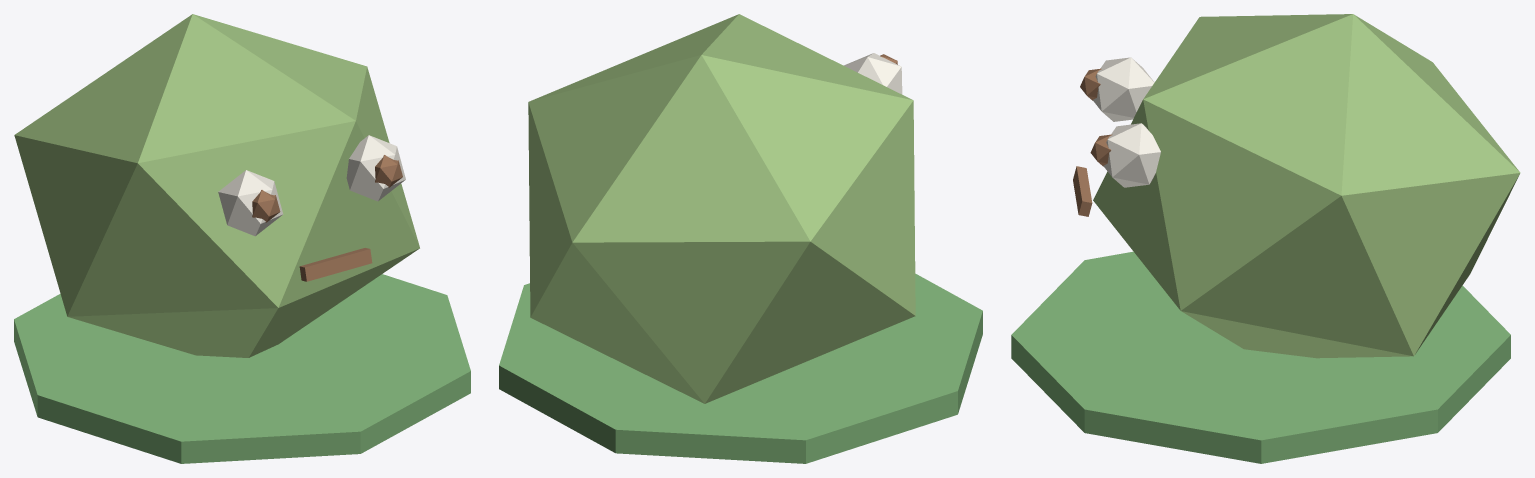
File: npcpose_slime_walk_09.glb
3 renders of one model, left to right at view 1: azimuth 30°, elevation 25°; view 2: azimuth 150°, elevation 25°; view 3: azimuth 270°, elevation 25°, orthographic. The views are drawn at different scales.
Parts seen in each view (by area): view 1: npcpose; view 2: npcpose; view 3: npcpose.
Part boxes in pixels (left/top/right/bottom): npcpose: left=14, top=14, right=470, bottom=463; npcpose: left=499, top=14, right=982, bottom=463; npcpose: left=1011, top=14, right=1520, bottom=463.
Bounding box in the file's own units: 0.96 × 0.7263 × 0.9783.
